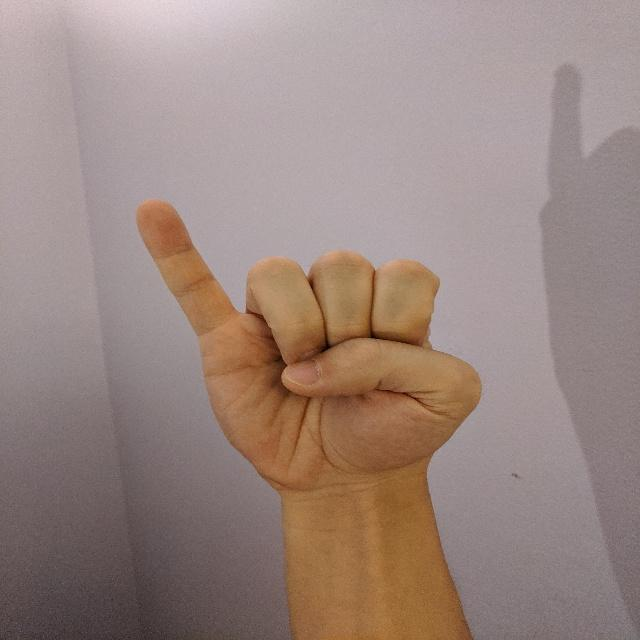I: (128, 194, 492, 495)
